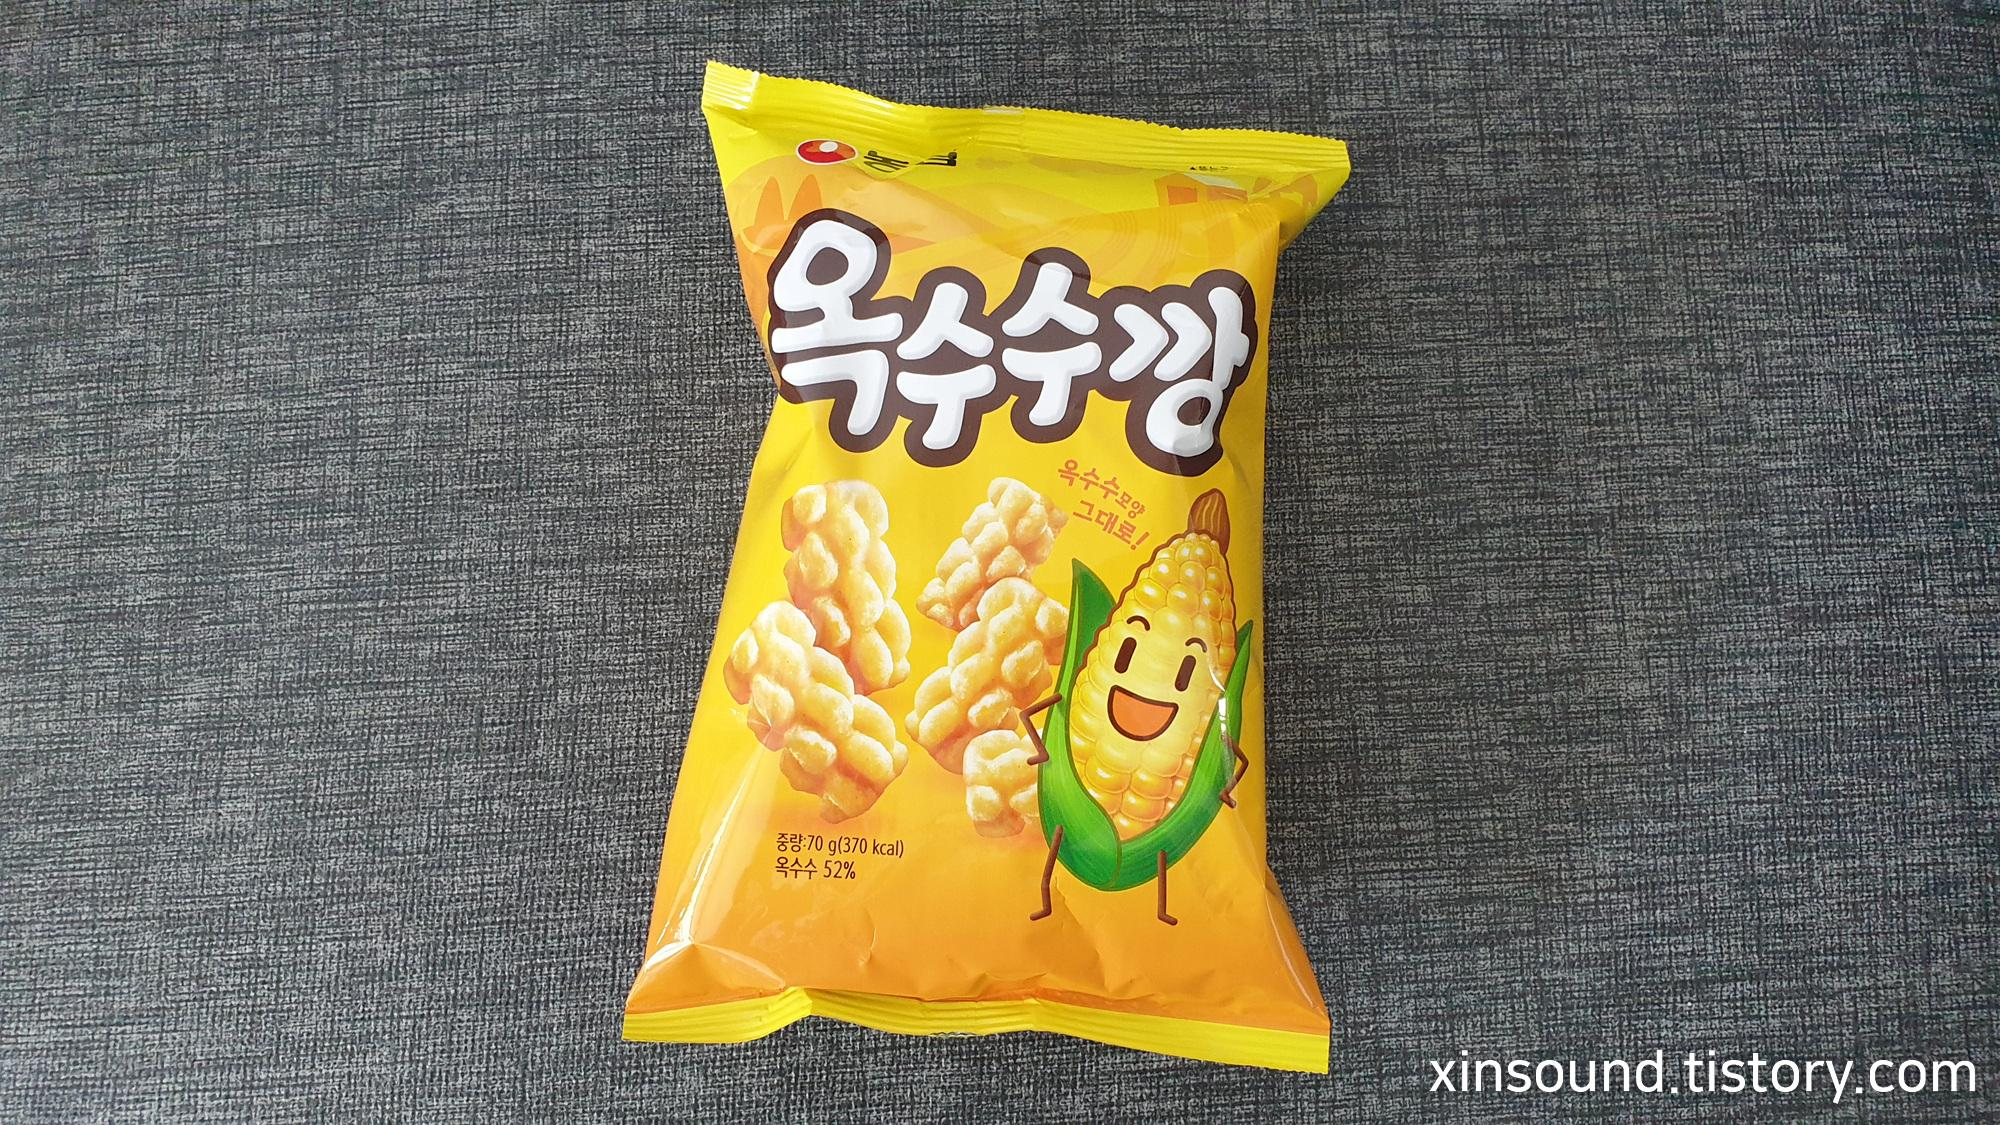snack: (615, 56, 1354, 1073)
